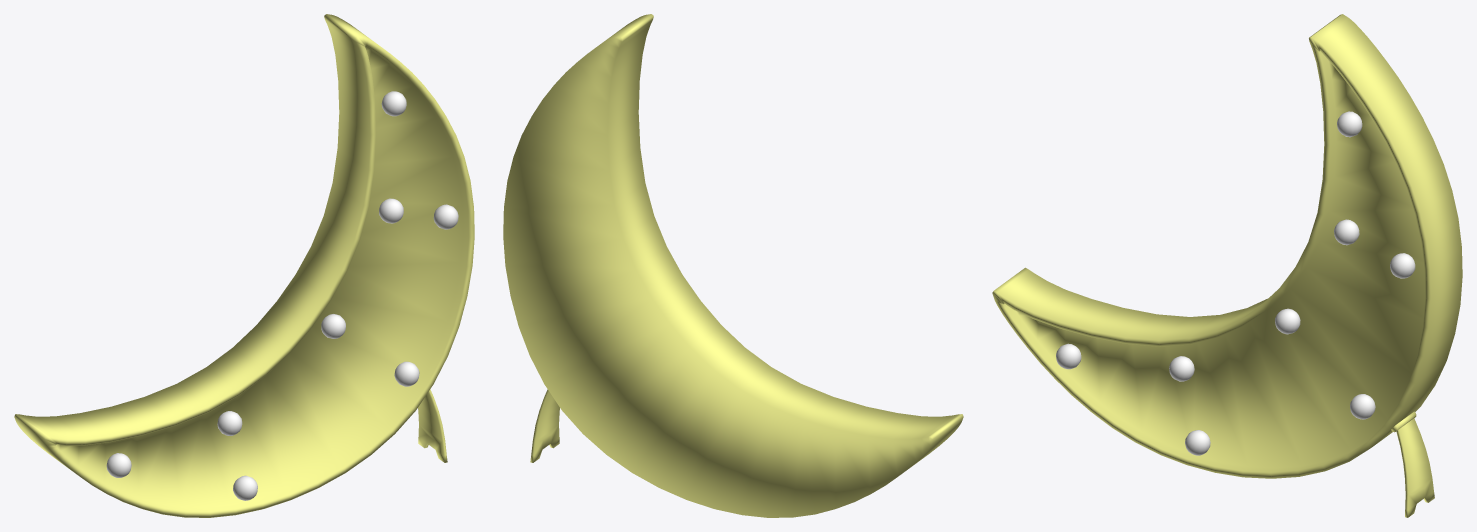
Rendered from Lámpara_2.obj.
3 views of the same model, side by side, from view 1: azimuth 30°, elevation 25°; view 2: azimuth 150°, elevation 25°; view 3: azimuth 330°, elevation 25° (orthographic). The views are drawn at different scales.
Parts seen in each view (by area): view 1: Moon_nightlight_LP_Plane_020, Moon_stand_LP_Plane_022; view 2: Moon_nightlight_LP_Plane_020, Moon_stand_LP_Plane_022; view 3: Moon_nightlight_LP_Plane_020, Moon_stand_LP_Plane_022, Moon_bulb_2_LP_Sphere_022, Moon_bulb_6_LP_Sphere_026, Moon_bulb_7_LP_Sphere_027, Moon_bulb_1_LP_Sphere_021, Moon_bulb_5_LP_Sphere_025, Moon_bulb_4_LP_Sphere_024, Moon_bulb_8_LP_Sphere_028.
Part boxes in pixels (x1,y1,x2,y2): Moon_nightlight_LP_Plane_020: (14,14,474,517); Moon_stand_LP_Plane_022: (418,389,447,462); Moon_nightlight_LP_Plane_020: (503,14,963,517); Moon_stand_LP_Plane_022: (530,389,559,462); Moon_nightlight_LP_Plane_020: (992,14,1462,478); Moon_stand_LP_Plane_022: (1391,411,1434,517); Moon_bulb_2_LP_Sphere_022: (1334,219,1359,245); Moon_bulb_6_LP_Sphere_026: (1169,356,1194,381); Moon_bulb_7_LP_Sphere_027: (1185,430,1210,455); Moon_bulb_1_LP_Sphere_021: (1337,111,1362,137); Moon_bulb_5_LP_Sphere_025: (1350,394,1375,419); Moon_bulb_4_LP_Sphere_024: (1275,308,1300,334); Moon_bulb_8_LP_Sphere_028: (1056,343,1081,369).
Bounding box in the file's own units: 0.24 × 0.2402 × 0.0357.
